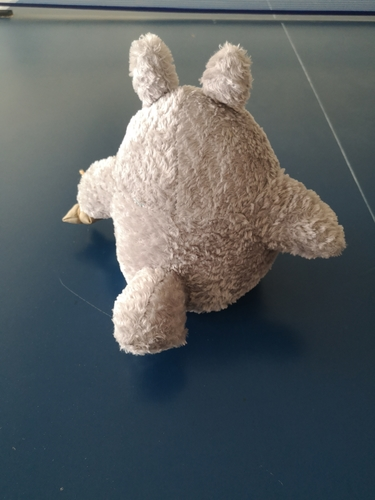totoro: (58, 27, 352, 363)
